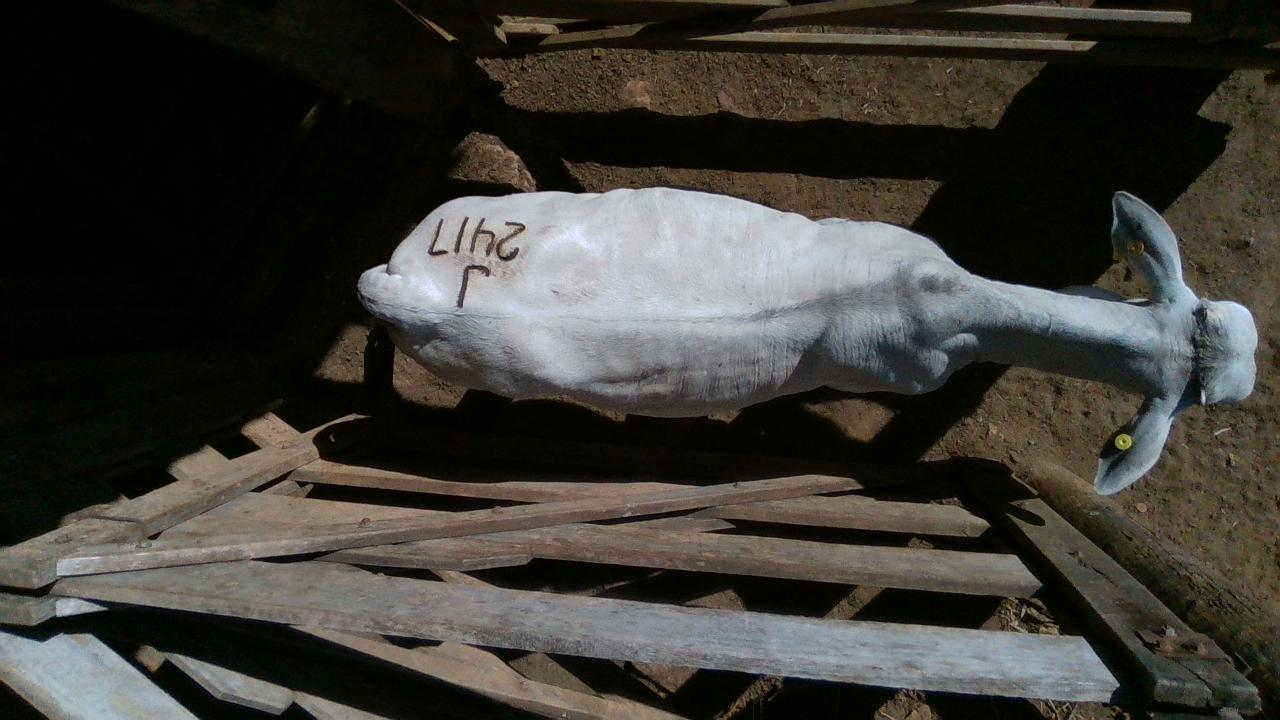cattle: (355, 183, 1259, 495)
